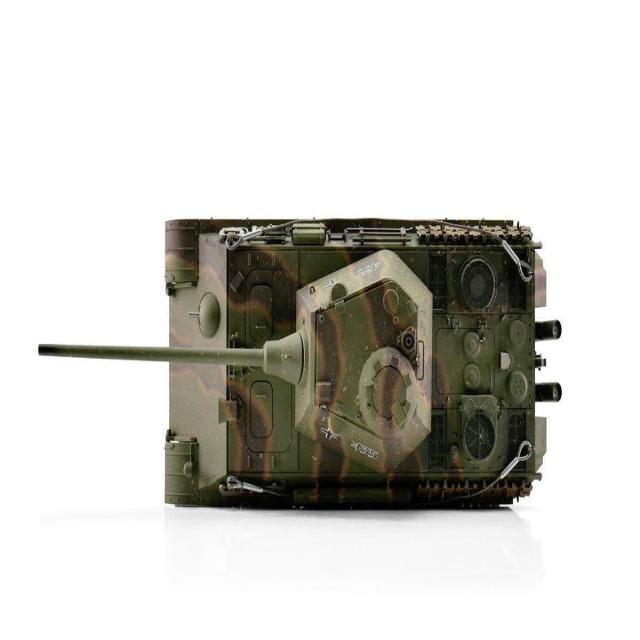Tanks: (32, 147, 575, 546)
